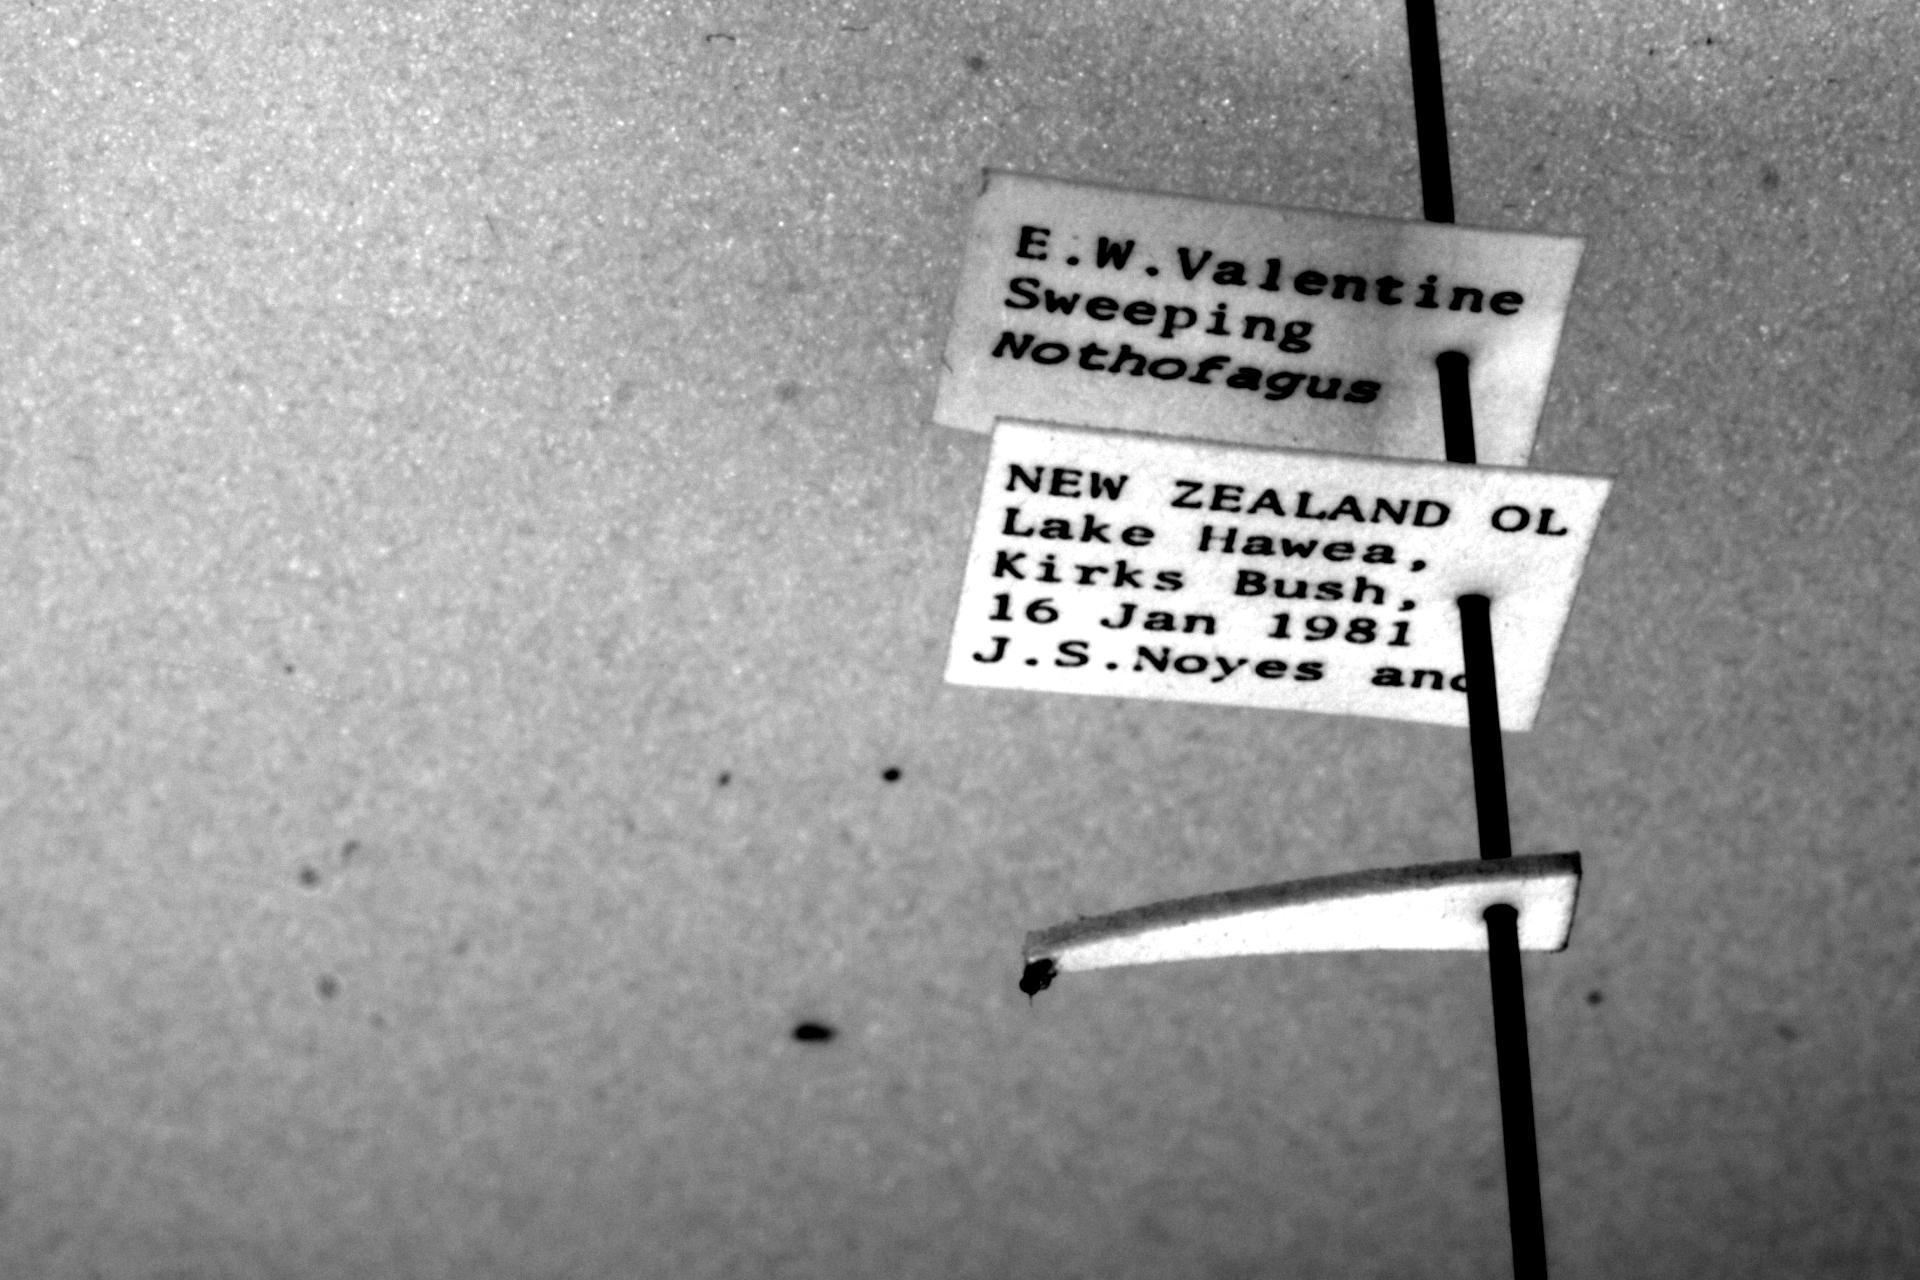typed_label: (946, 420, 1609, 731), (934, 173, 1586, 469)
